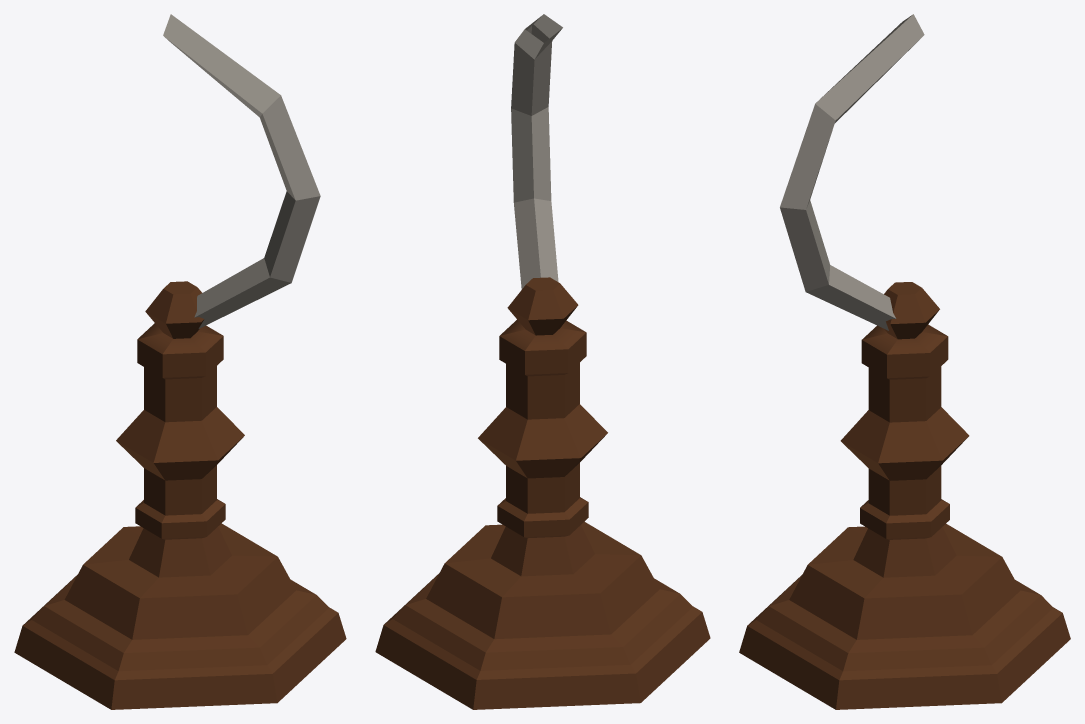
Rendered from bankers_lamp_single_base_variantfbx.fbx.
3 renders of one model, left to right at view 1: azimuth 30°, elevation 25°; view 2: azimuth 150°, elevation 25°; view 3: azimuth 270°, elevation 25°, orthographic.
Visible parts, largest first — view 1: bankers_lamp_single_base; view 2: bankers_lamp_single_base; view 3: bankers_lamp_single_base.
Part boxes in pixels (box(x1,y1,x2,y2)): bankers_lamp_single_base: box(14, 14, 346, 709); bankers_lamp_single_base: box(375, 14, 710, 709); bankers_lamp_single_base: box(739, 14, 1070, 709).
Size of the model in its own units: 17.38 by 39.77 by 19.01.
